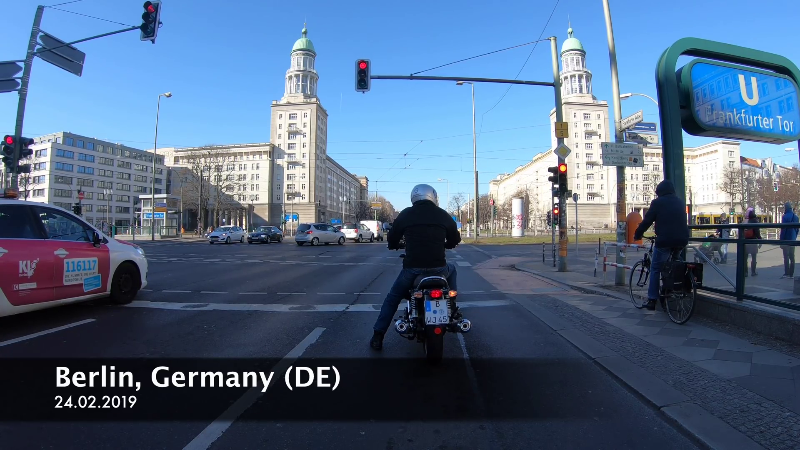Plate: (420, 297, 451, 326)
